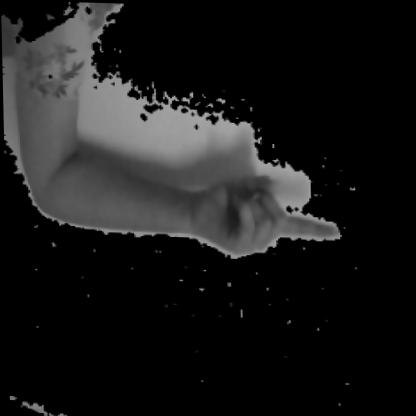one: (60, 67, 354, 316)
